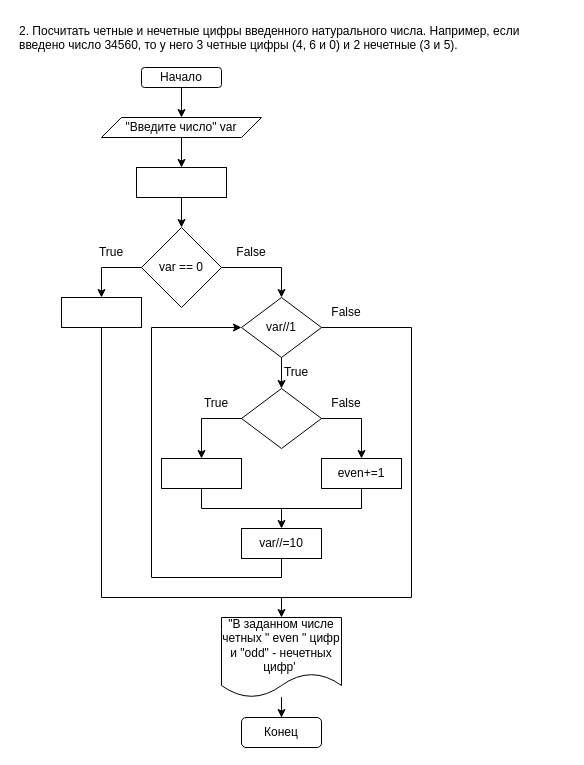
Image size: 584x765. Some labels were removed from this diagram. Each missing label, with the centre of its shape:
"(var%10)%2" goes at point 281,418.
"even=0 odd=0" goes at point 181,182.
"even=1" goes at point 101,312.
"odd+=1" goes at point 201,473.
